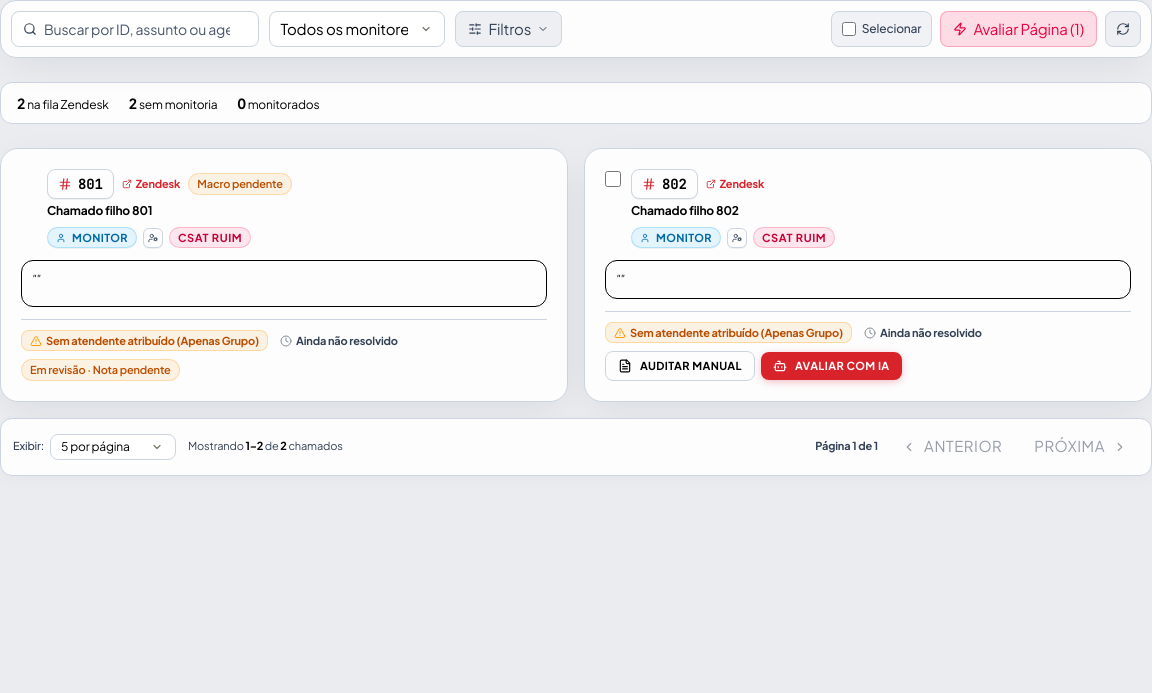
Test: IA de chamados filhos › filtra monitorias salvas sem ocultar pareceres de IA em negativas
Expected: the heading "Chamado filho 801" is shown, [47, 203, 152, 218]
Click the button "Filtros" at [509, 29], box [456, 11, 562, 47]
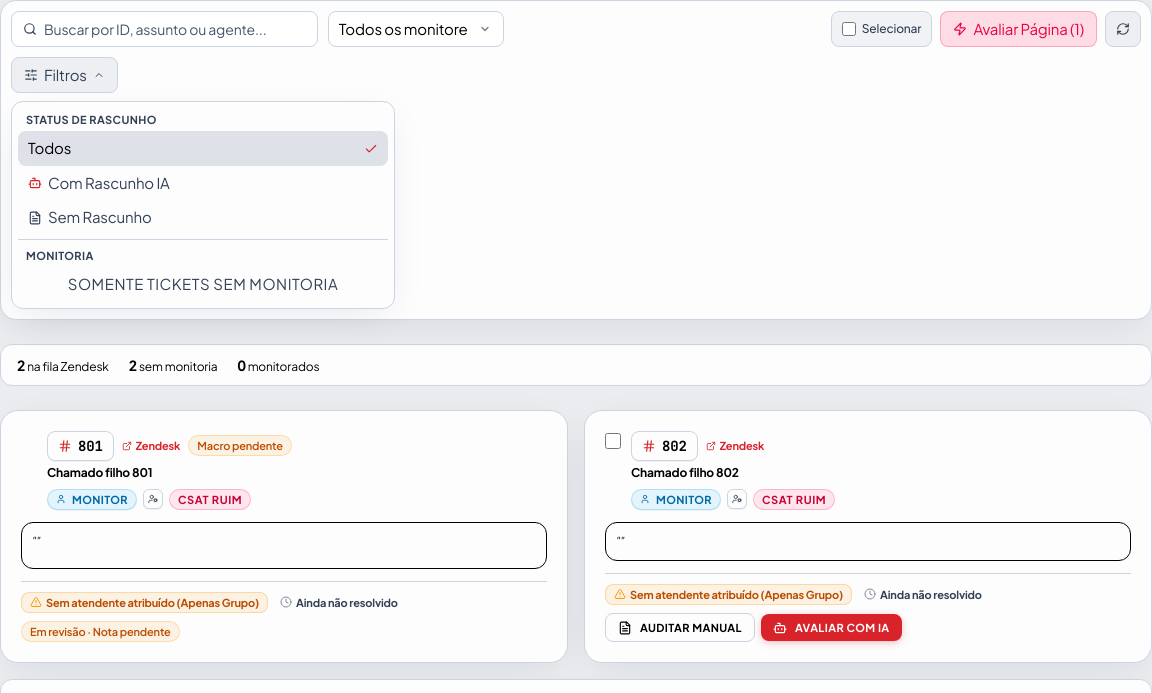
Click the menu item "Somente tickets sem monitoria" at [203, 285], box [18, 267, 388, 302]
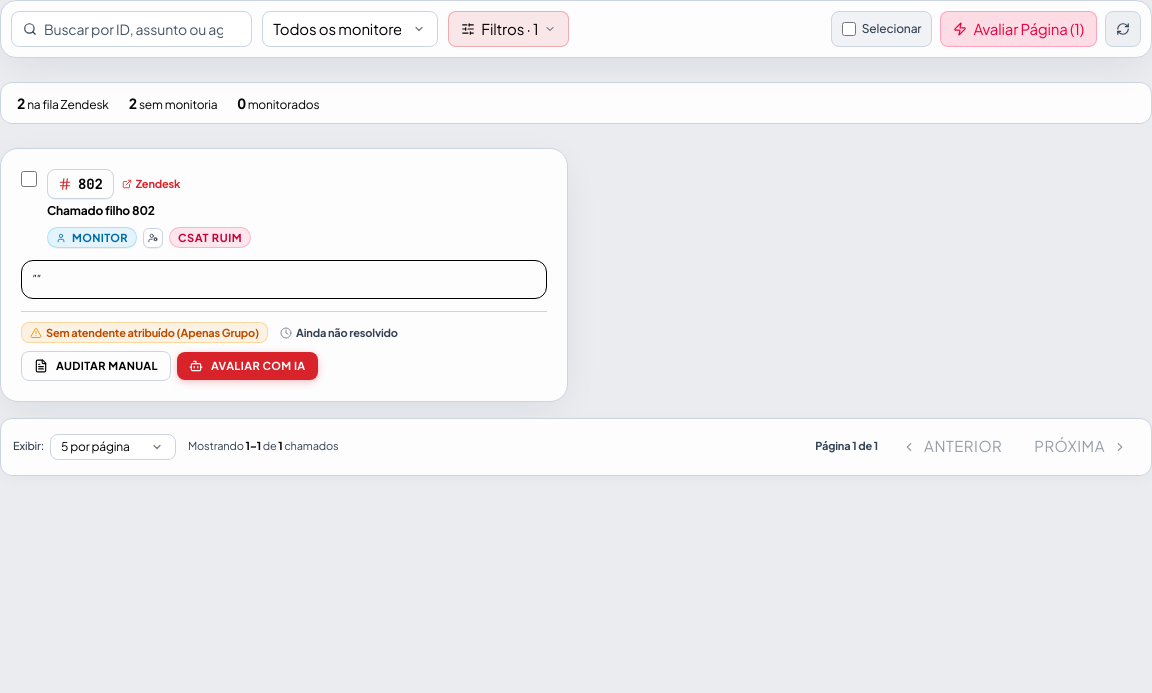
Expected: the heading "Chamado filho 802" is shown, [47, 203, 155, 218]
Now the heading "Chamado filho 801" is gone
Click the button "Filtros · 1" at [509, 29], box [448, 11, 569, 47]
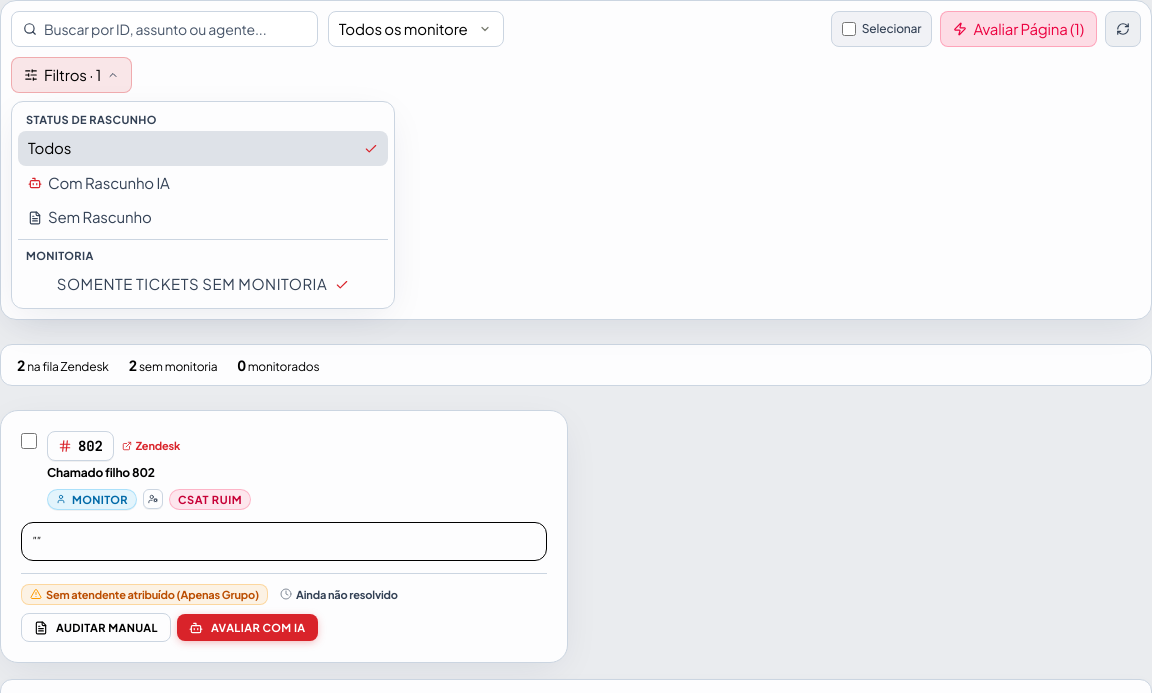
Now the menu item "Somente tickets sem monitoria" is checked
Click the menu item "Somente tickets sem monitoria" at [203, 285], box [18, 267, 388, 302]
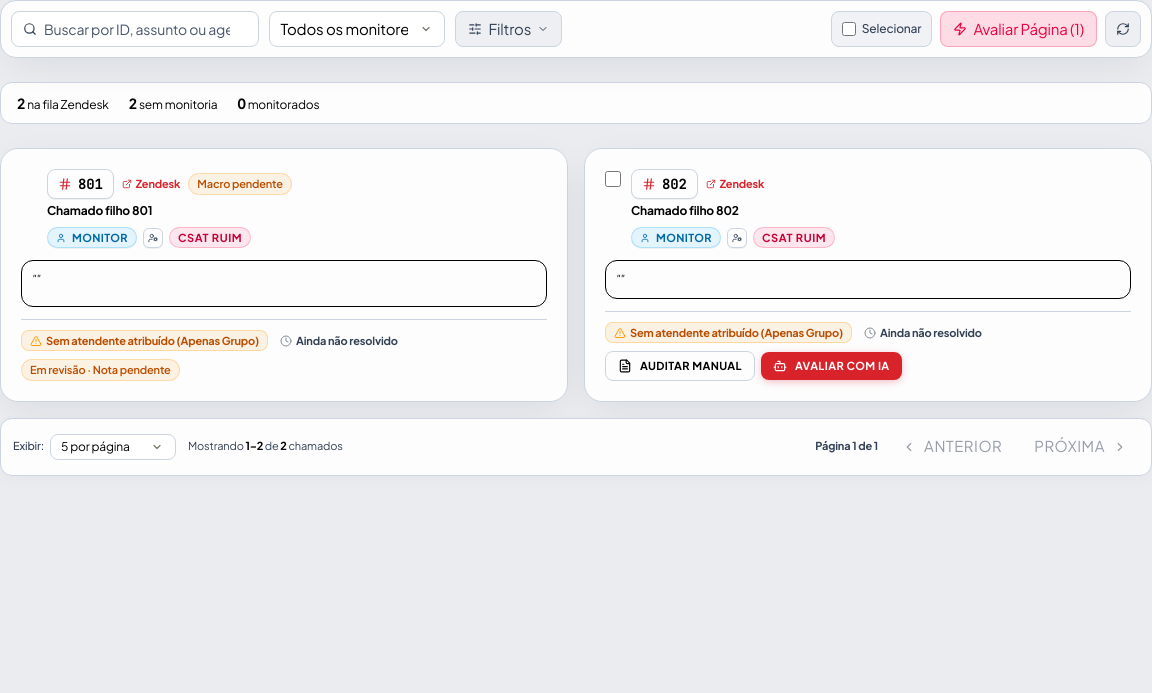
Now the heading "Chamado filho 801" is shown, box [47, 203, 152, 218]
